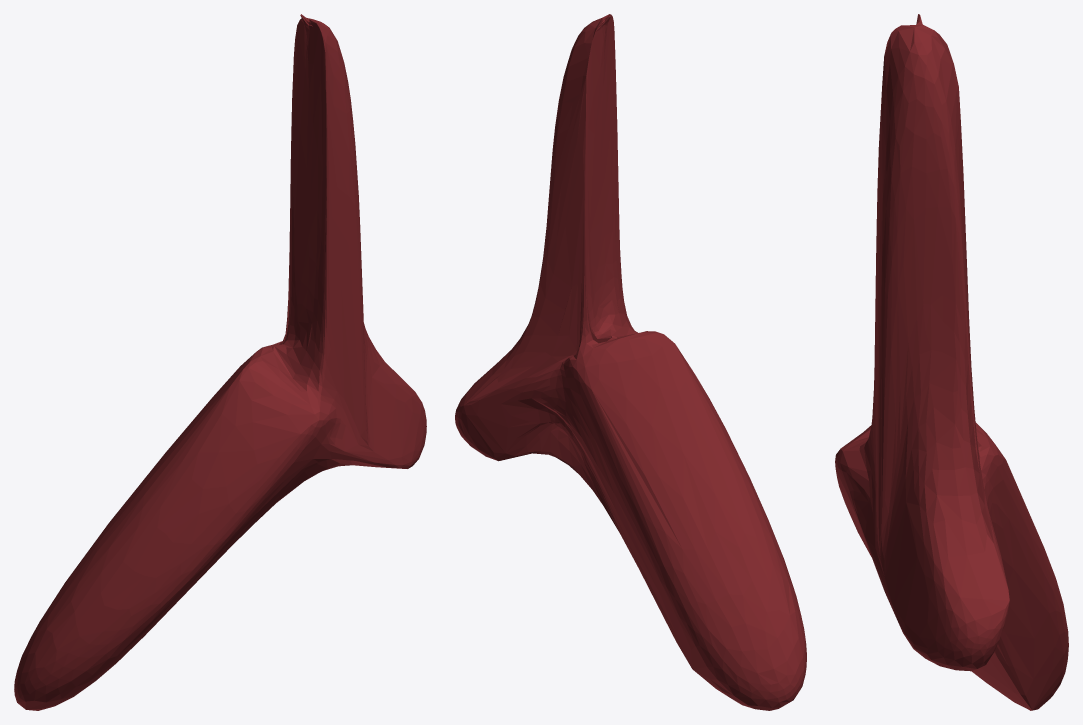
3 views of the same model, side by side, from view 1: azimuth 30°, elevation 25°; view 2: azimuth 150°, elevation 25°; view 3: azimuth 270°, elevation 25° (orthographic). The views are drawn at different scales.
Parts seen in each view (by area): view 1: 760_Cube.3060; view 2: 760_Cube.3060; view 3: 760_Cube.3060.
Part boxes in pixels (box(x1,y1,x2,y2)): 760_Cube.3060: box(14, 14, 426, 710); 760_Cube.3060: box(455, 14, 806, 710); 760_Cube.3060: box(835, 14, 1068, 710).
Bounding box in the file's own units: 11.31 × 18.69 × 4.91.
